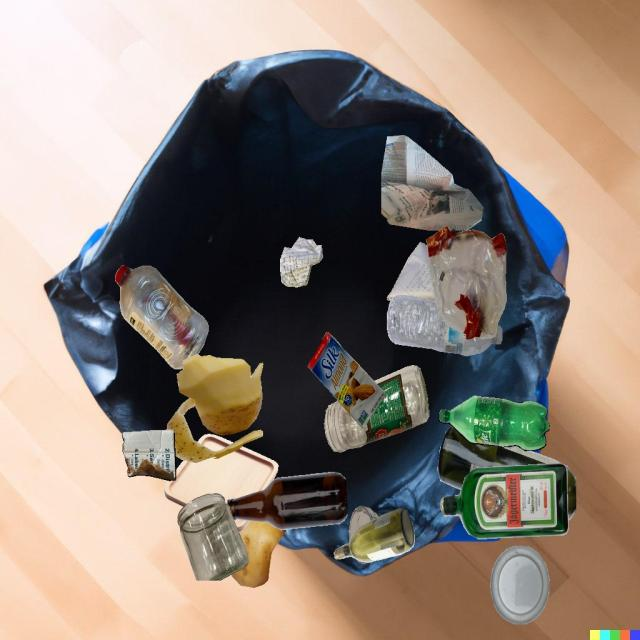biowaste: (167, 354, 263, 463), (231, 521, 286, 588)
cardboard: (307, 332, 385, 429), (122, 429, 176, 481)
combustible waste: (164, 457, 228, 507)
glass: (437, 425, 576, 521), (441, 464, 568, 539), (324, 365, 429, 452), (228, 472, 347, 530), (177, 493, 249, 580), (334, 508, 415, 562), (349, 506, 379, 541)
paper: (381, 135, 484, 231), (387, 242, 435, 301), (280, 237, 323, 287)
plastic: (115, 265, 208, 369), (426, 226, 507, 340), (387, 295, 502, 356), (439, 396, 550, 451), (490, 545, 550, 624)
